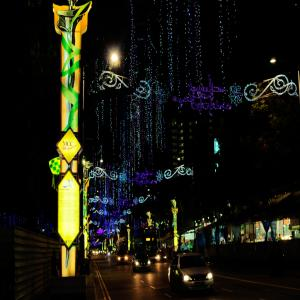Vehicle-registration-plate: (195, 283, 206, 291)
